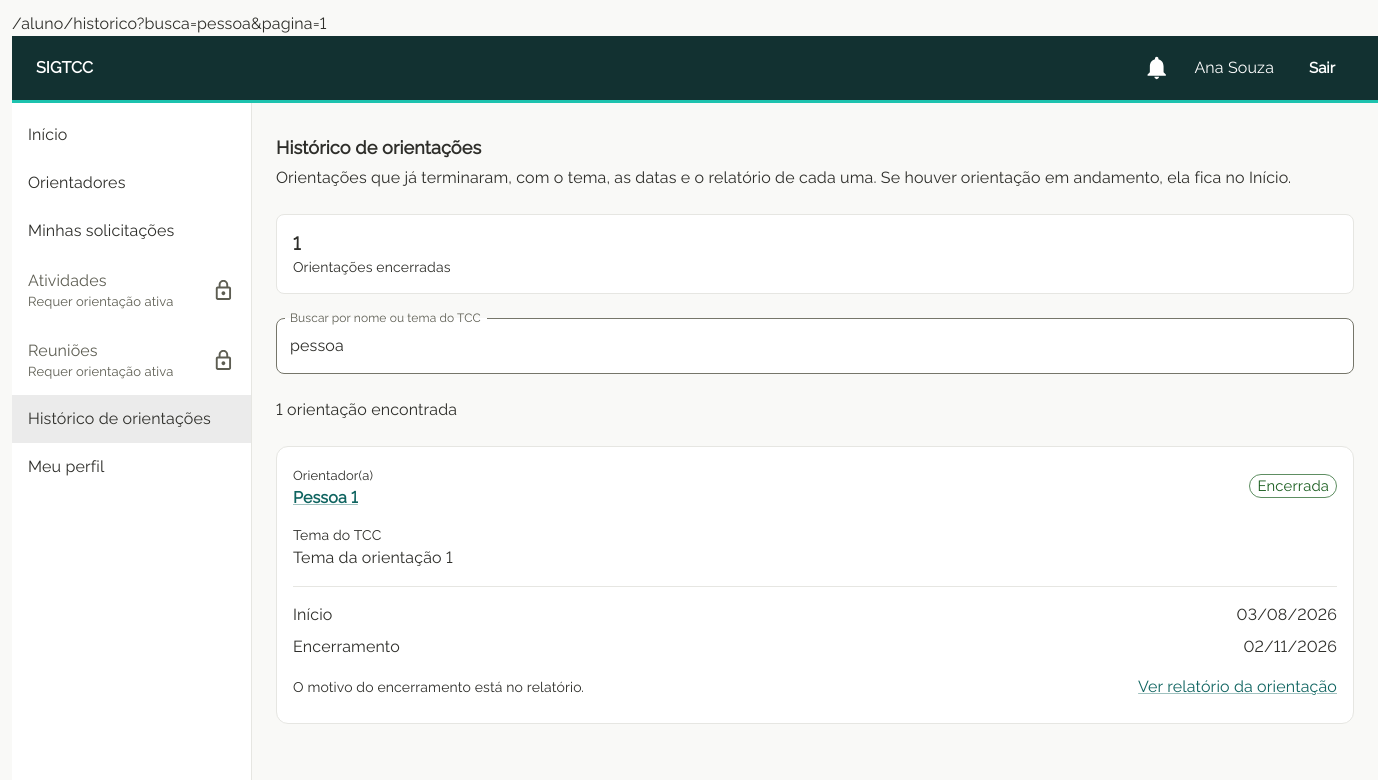
Scenario: AdvisingReportPage: a volta ao histórico › voltar restaura a busca e a página do histórico de onde o relatório foi aberto
Click the link "Ver relatório da orientação". click: click(1238, 687)
box: [1138,675,1337,699]
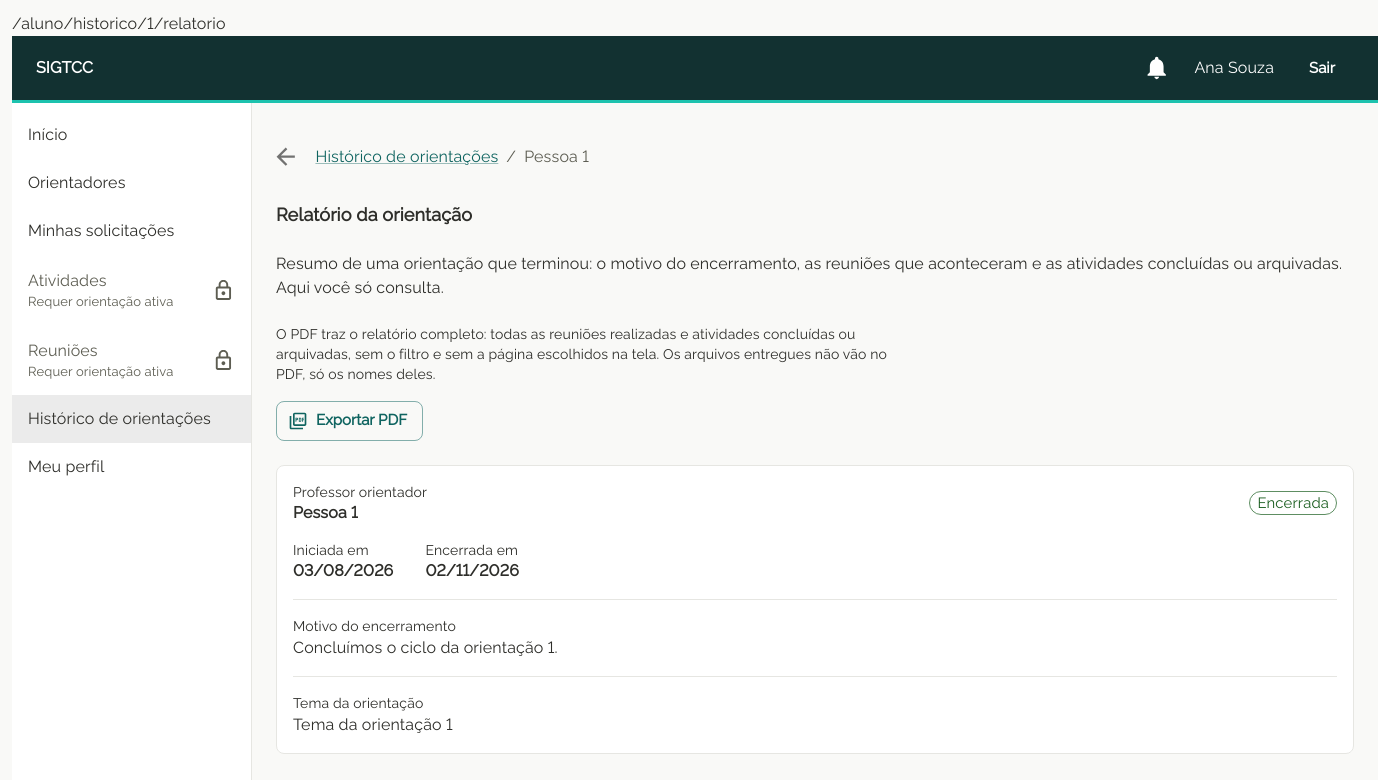
Click the link named "Voltar para o histórico". click: click(286, 157)
box: [272,143,299,170]
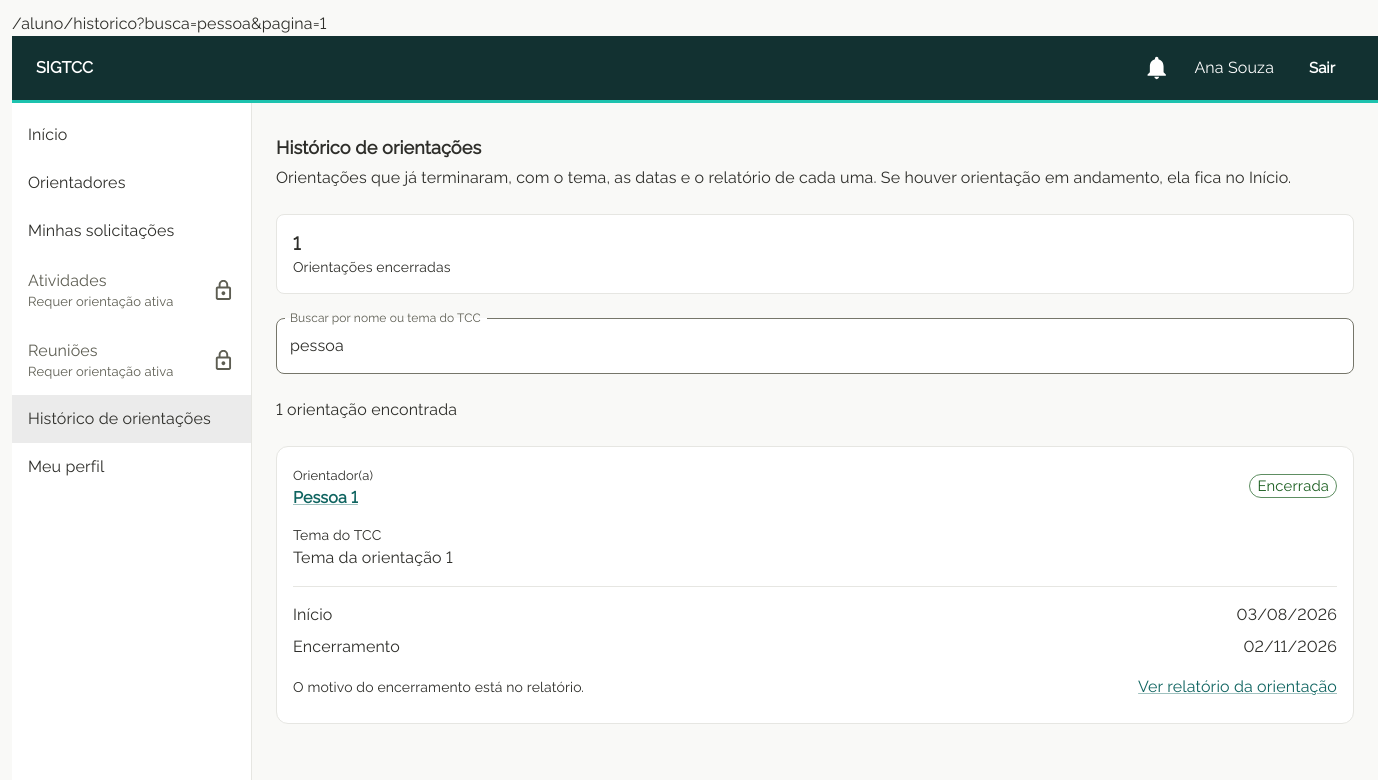
Result: the field labelled "Buscar por nome ou tema do TCC" holds "pessoa" at [276,318,1354,374]
